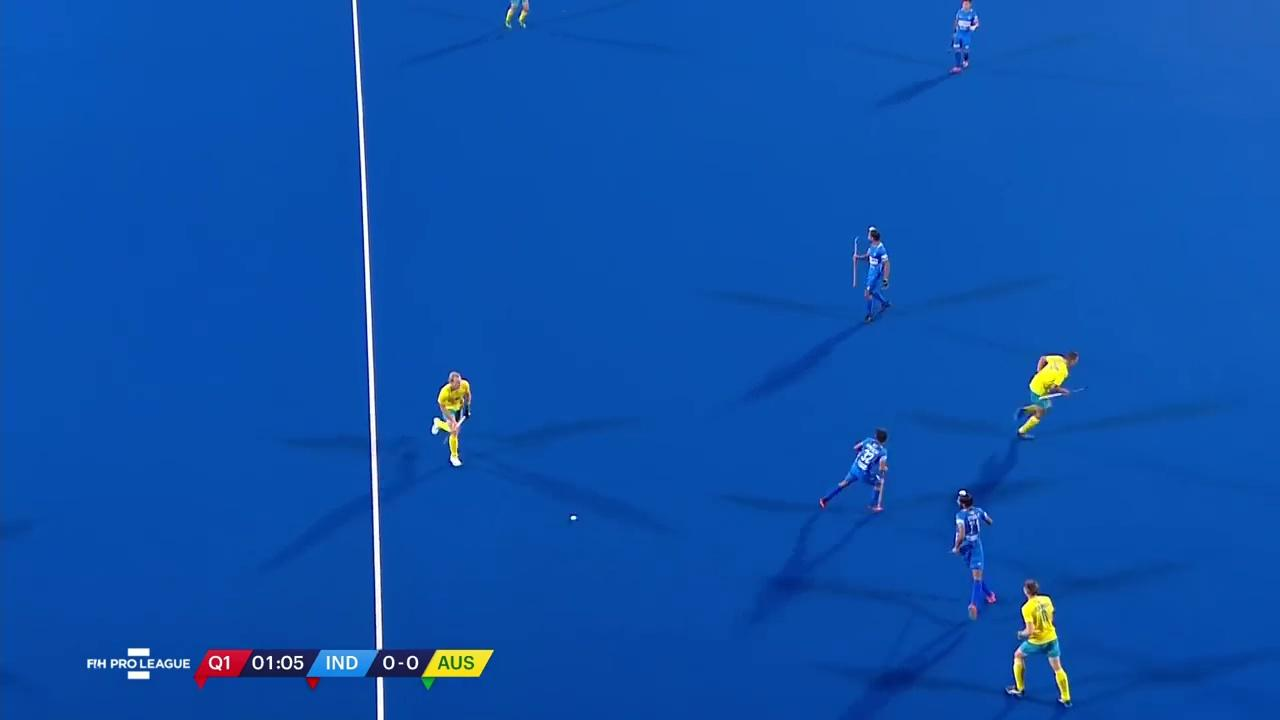ball: (563, 505, 589, 528)
